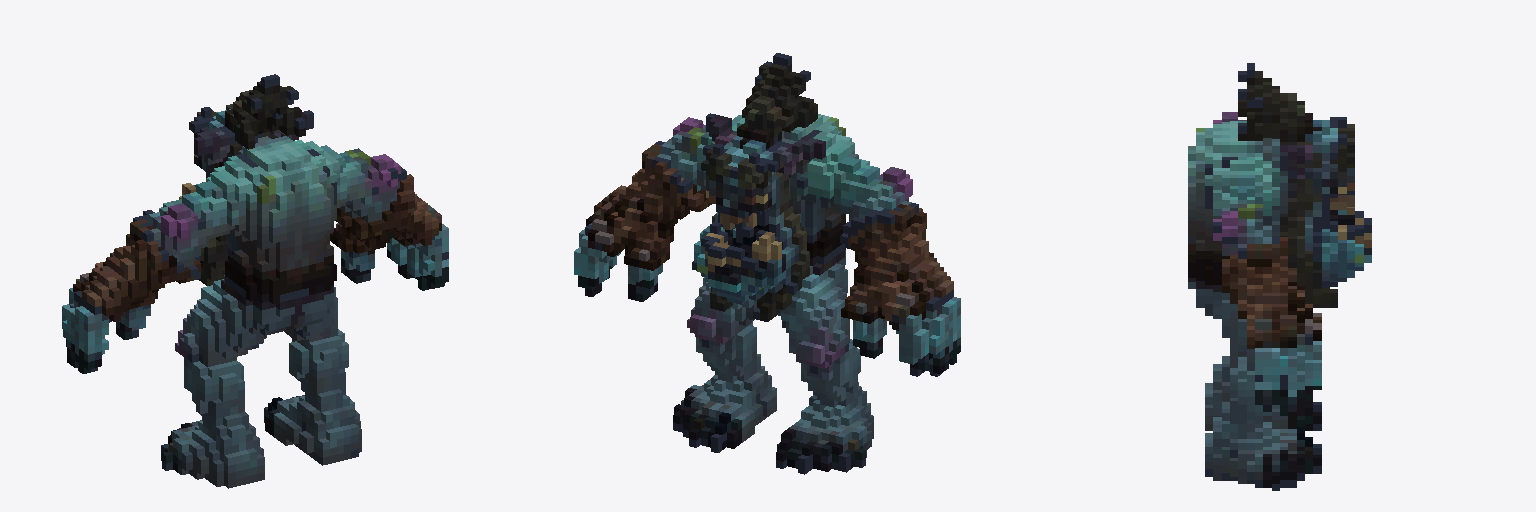
3 views of the same model, side by side, from view 1: azimuth 30°, elevation 25°; view 2: azimuth 150°, elevation 25°; view 3: azimuth 270°, elevation 25° (orthographic).
Parts seen in each view (by area): view 1: object 1; view 2: object 1; view 3: object 1.
Boxes of the visible parts, x1=… form: object 1: x1=62, y1=74, x2=448, y2=488; object 1: x1=574, y1=53, x2=960, y2=474; object 1: x1=1188, y1=63, x2=1371, y2=490.
Size of the model in its own units: 5 by 5 by 2.2.
Materials: 1 (1 with a texture image).